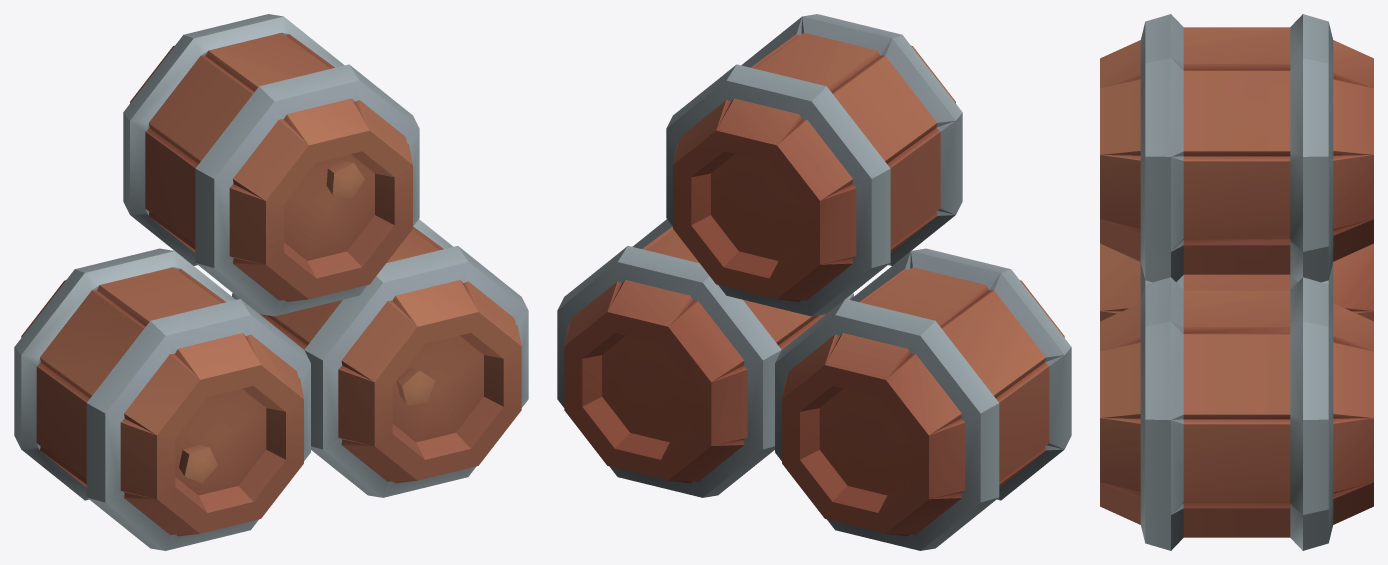
Rendered from barrel_small_stack.gltf.glb.
The picture shows the model from 3 angles, left to right: view 1: azimuth 30°, elevation 25°; view 2: azimuth 150°, elevation 25°; view 3: azimuth 270°, elevation 25°; orthographic projection.
Parts seen in each view (by area): view 1: barrel_small_stack; view 2: barrel_small_stack; view 3: barrel_small_stack.
Part boxes in pixels (x1=…): barrel_small_stack: x1=14, y1=14, x2=528, y2=550; barrel_small_stack: x1=557, y1=14, x2=1071, y2=550; barrel_small_stack: x1=1100, y1=14, x2=1373, y2=550.
Size of the model in its own units: 1.85 by 1.77 by 1.
1 material, 1 textured.
